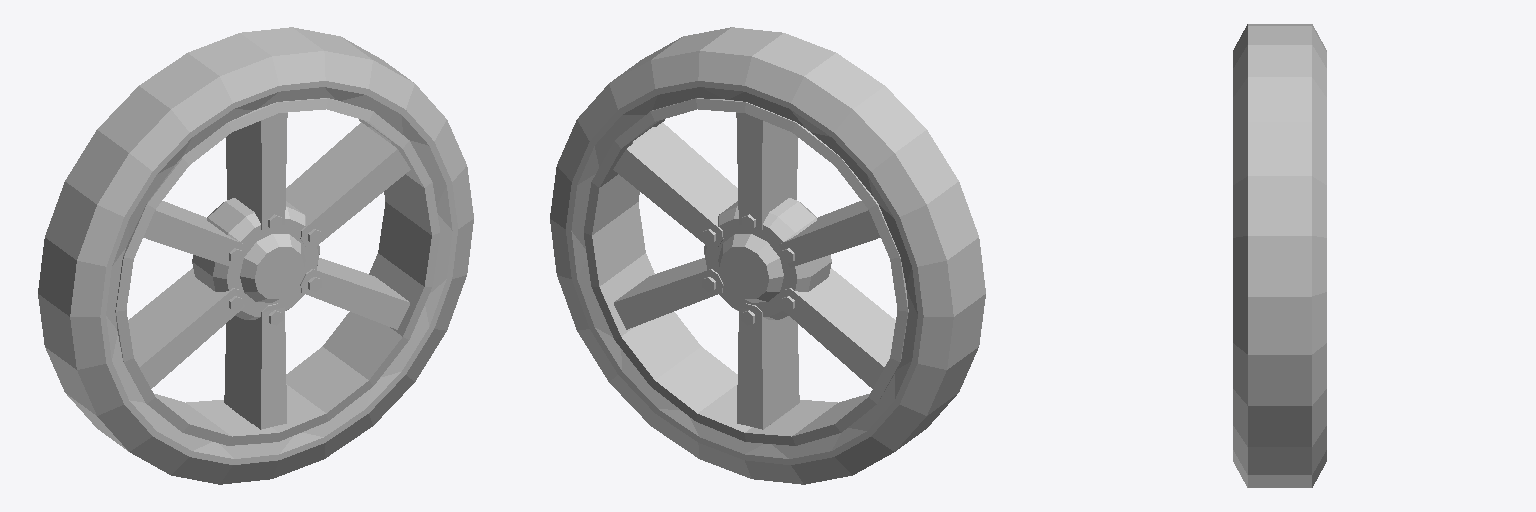
The model's file is fant_wheel_large_2b.obj.
The picture shows the model from 3 angles: view 1: azimuth 30°, elevation 25°; view 2: azimuth 150°, elevation 25°; view 3: azimuth 270°, elevation 25°; orthographic projection.
Visible parts, largest first — view 1: fant_wheel_large_1_Mesh; view 2: fant_wheel_large_1_Mesh; view 3: fant_wheel_large_1_Mesh.
Part boxes in pixels (left/top/right/bottom): fant_wheel_large_1_Mesh: left=38, top=27, right=473, bottom=484; fant_wheel_large_1_Mesh: left=550, top=27, right=985, bottom=484; fant_wheel_large_1_Mesh: left=1233, top=24, right=1326, bottom=487.
Size of the model in its own units: 5 by 5 by 1.